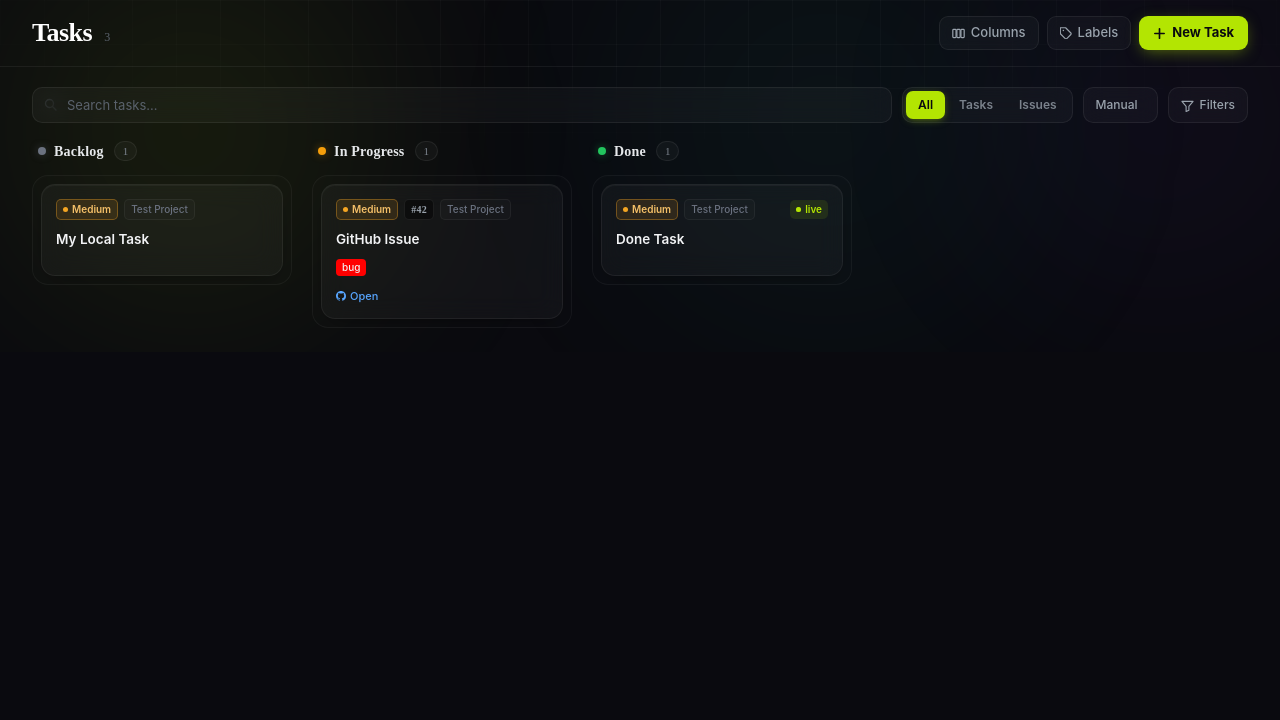
Test case: KanbanBoard › opens the labels manager modal
The width and height of the screenshot is (1280, 720).
Expected: the heading "Backlog" is shown, [54,140,104,162]
Click the button "Labels". click: (1089, 33)
box: [1047,16,1131,50]
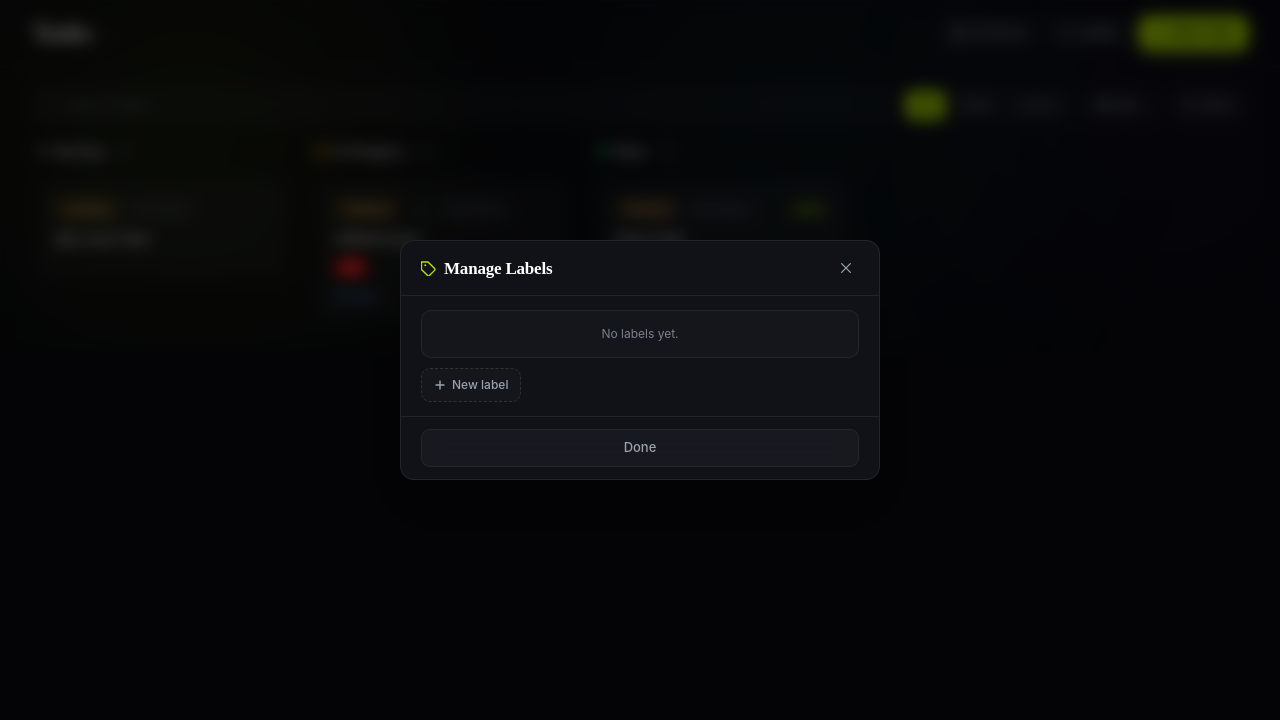
Expected: the heading "Manage Labels" is shown, [444,256,552,281]
